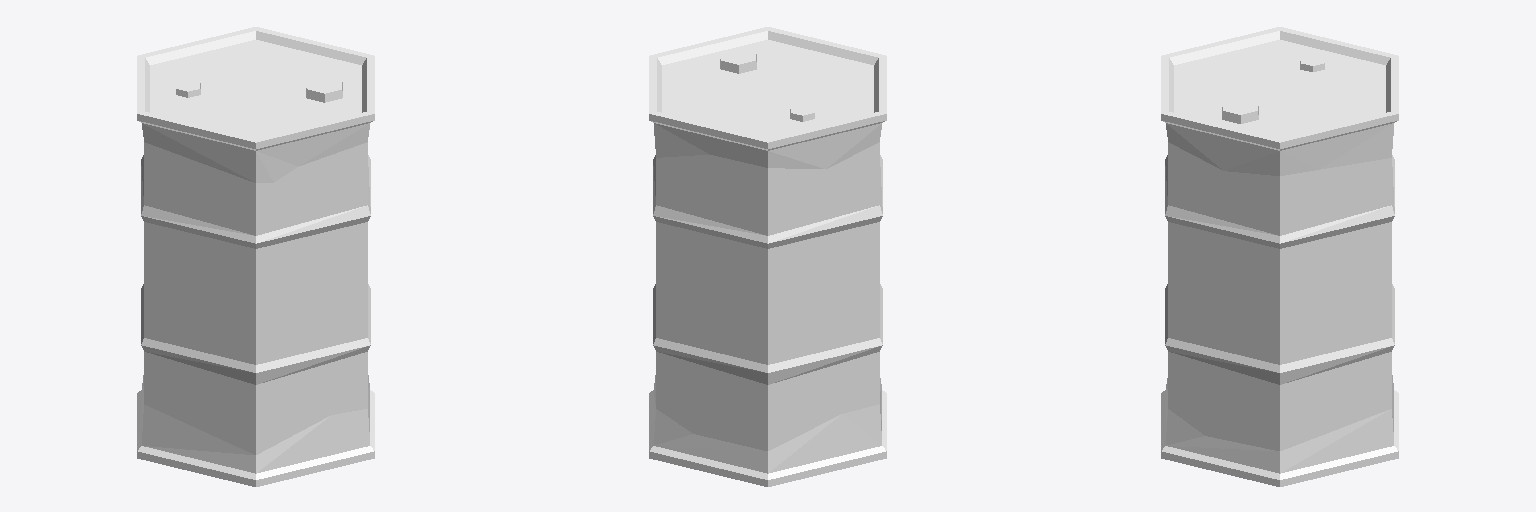
Rendered from Barrel.obj.
The picture shows the model from 3 angles: view 1: azimuth 30°, elevation 25°; view 2: azimuth 150°, elevation 25°; view 3: azimuth 270°, elevation 25°; orthographic projection.
Parts seen in each view (by area): view 1: SM_Prop_Barrel_01_Mesh; view 2: SM_Prop_Barrel_01_Mesh; view 3: SM_Prop_Barrel_01_Mesh.
Part boxes in pixels (bbox=[...]): SM_Prop_Barrel_01_Mesh: bbox=[137, 27, 374, 486]; SM_Prop_Barrel_01_Mesh: bbox=[649, 27, 886, 486]; SM_Prop_Barrel_01_Mesh: bbox=[1161, 27, 1398, 486].
Bounding box in the file's own units: 0.6558 × 0.9135 × 0.5679.